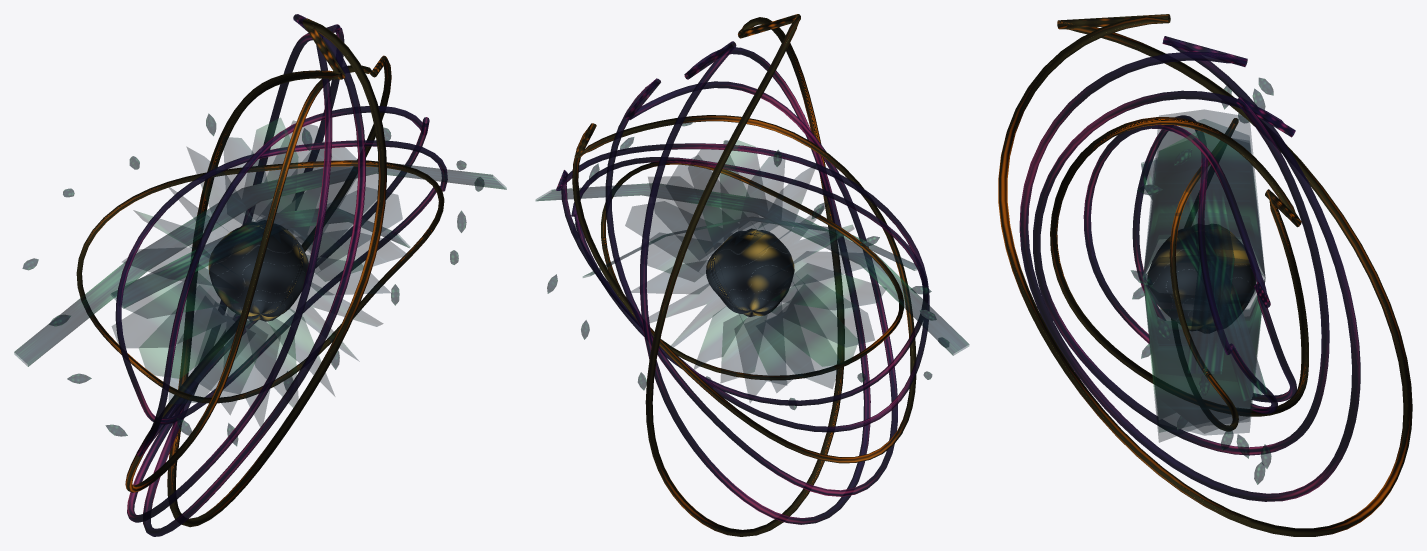
The model's file is life-map-memory-star-v1.glb.
3 views of the same model, side by side, from view 1: azimuth 30°, elevation 25°; view 2: azimuth 150°, elevation 25°; view 3: azimuth 270°, elevation 25° (orthographic). The views are drawn at different scales.
Visible parts, largest first — view 1: memory-star-core, memory-star-orbit-7, memory-star-halo, memory-star-orbit-6, memory-star-heart, memory-star-orbit-4, memory-star-orbit-5, memory-star-orbit-2, memory-star-orbit-3, memory-star-orbit-1, memory-star-halo-secondary; view 2: memory-star-core, memory-star-orbit-7, memory-star-orbit-6, memory-star-orbit-5, memory-star-halo, memory-star-orbit-4, memory-star-heart, memory-star-orbit-3, memory-star-orbit-2, memory-star-orbit-1, memory-star-halo-secondary; view 3: memory-star-core, memory-star-orbit-7, memory-star-orbit-6, memory-star-orbit-5, memory-star-heart, memory-star-orbit-4, memory-star-halo, memory-star-orbit-3, memory-star-halo-secondary, memory-star-orbit-2, memory-star-orbit-1.
Boxes of the visible parts, <box> form: memory-star-core: <box>112,117,407,426</box>; memory-star-orbit-7: <box>167,18,386,527</box>; memory-star-halo: <box>14,160,506,366</box>; memory-star-orbit-6: <box>143,14,365,536</box>; memory-star-heart: <box>208,220,308,321</box>; memory-star-orbit-4: <box>125,55,391,492</box>; memory-star-orbit-5: <box>127,24,344,522</box>; memory-star-orbit-2: <box>115,140,447,424</box>; memory-star-orbit-3: <box>137,106,429,456</box>; memory-star-orbit-1: <box>76,160,444,403</box>; memory-star-halo-secondary: <box>110,207,409,308</box>; memory-star-core: <box>625,140,885,402</box>; memory-star-orbit-7: <box>645,14,844,536</box>; memory-star-orbit-6: <box>639,41,870,524</box>; memory-star-orbit-5: <box>605,78,897,496</box>; memory-star-halo: <box>535,183,969,355</box>; memory-star-orbit-4: <box>572,115,916,463</box>; memory-star-heart: <box>706,228,794,316</box>; memory-star-orbit-3: <box>556,143,929,432</box>; memory-star-orbit-2: <box>571,157,928,405</box>; memory-star-orbit-1: <box>601,162,903,380</box>; memory-star-halo-secondary: <box>583,217,917,277</box>; memory-star-core: <box>1143,109,1265,442</box>; memory-star-orbit-7: <box>998,14,1412,536</box>; memory-star-orbit-6: <box>1019,36,1360,501</box>; memory-star-orbit-5: <box>1033,90,1329,455</box>; memory-star-heart: <box>1147,224,1255,332</box>; memory-star-orbit-4: <box>1050,117,1308,416</box>; memory-star-halo: <box>1186,186,1234,373</box>; memory-star-orbit-3: <box>1083,124,1296,402</box>; memory-star-halo-secondary: <box>1141,158,1267,400</box>; memory-star-orbit-2: <box>1132,115,1277,413</box>; memory-star-orbit-1: <box>1169,118,1238,431</box>.
Bounding box in the file's own units: 4.79 × 4.92 × 3.29.
4 materials, 4 textured.
